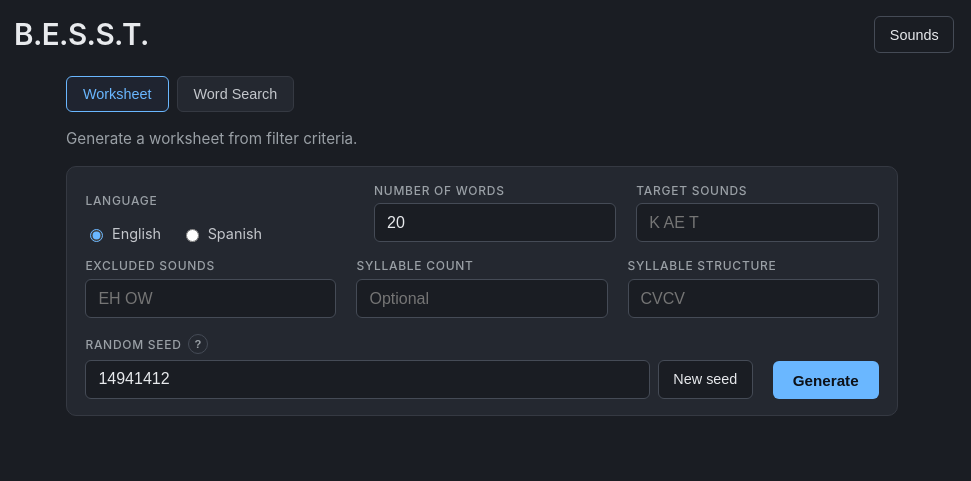
random seed help toggles explanatory text
Click the button named "random seed help".
click(198, 344)  # box [188, 334, 208, 354]
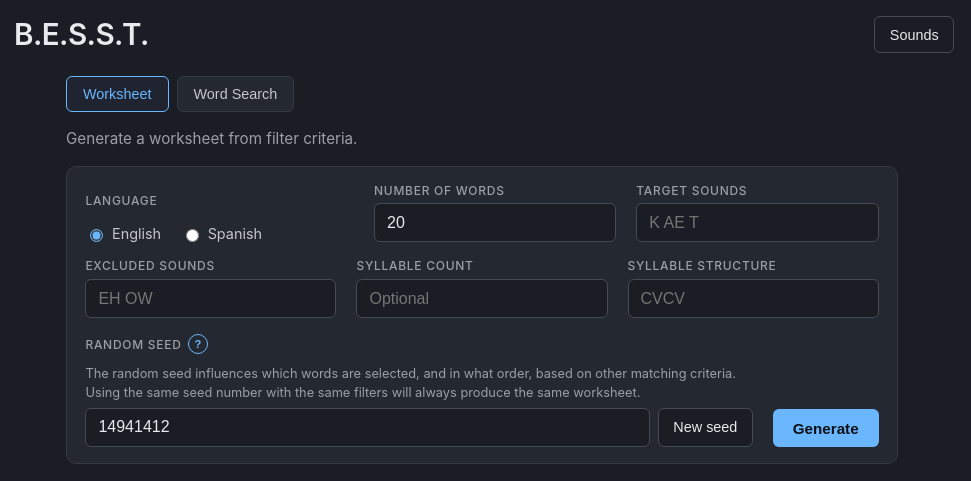
Check: the text "same seed number with the same filters" is shown, box [85, 366, 736, 400]
